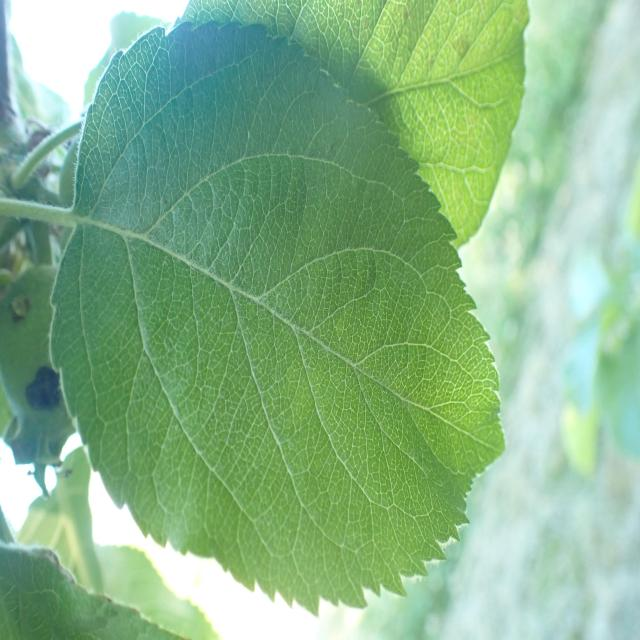healthy: (48, 18, 504, 615), (170, 0, 531, 248)
